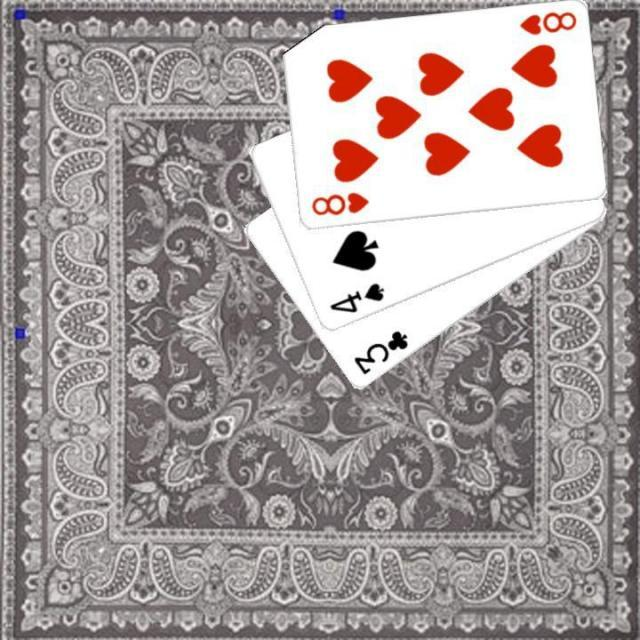3C: (349, 327, 409, 377)
4S: (325, 279, 385, 315)
8H: (308, 188, 371, 218), (516, 8, 578, 38)
